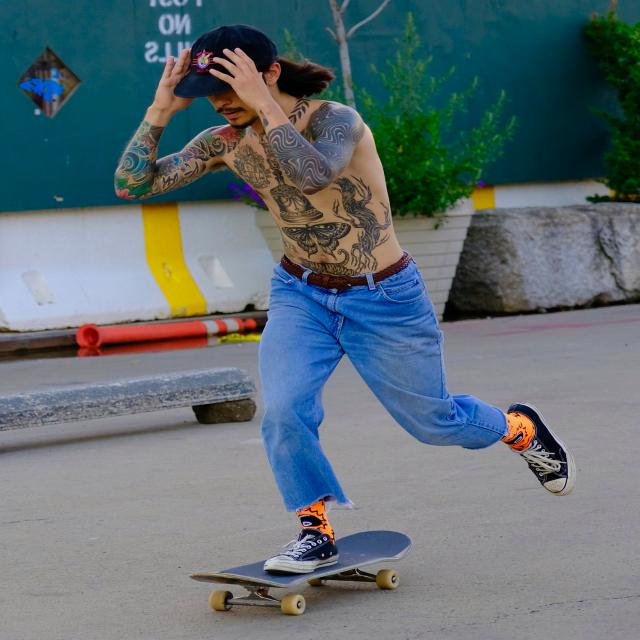adult: (111, 23, 566, 572)
